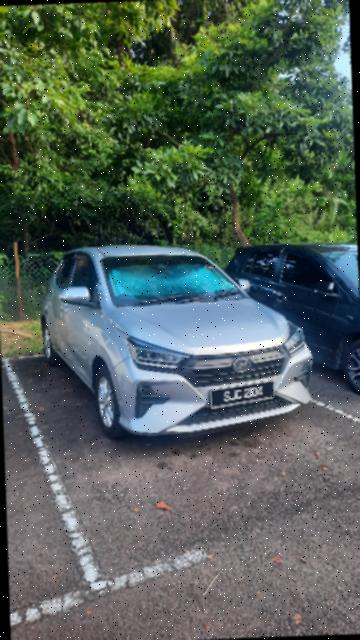License_Plate: (209, 380, 283, 411)
car: (37, 233, 325, 449)
